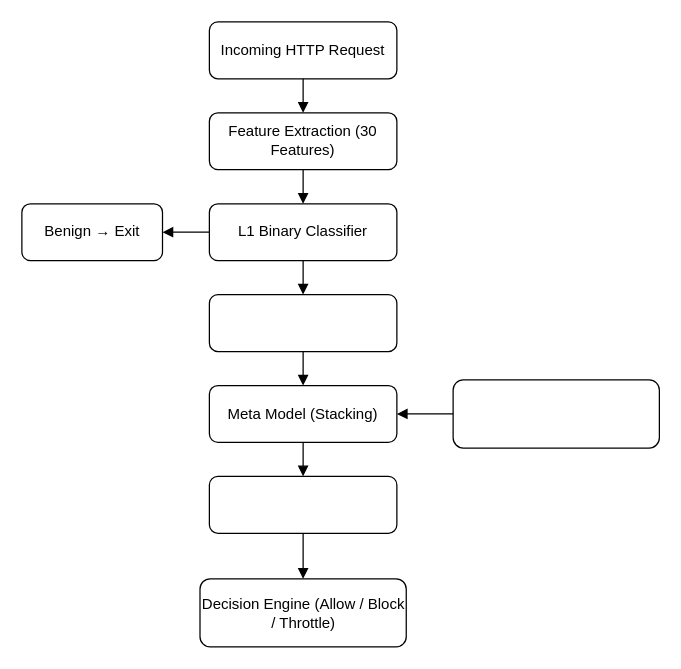
This 681x669 diagram has some shape labels left out. The box of each missing label's shape, as (x1, y1, x2, y2) in pixels:
L2 Multi-Class Classifier: (208, 293, 397, 352)
L3 Anomaly Detection (Isolation Forest): (452, 379, 659, 448)
Risk Score: (208, 475, 397, 533)
